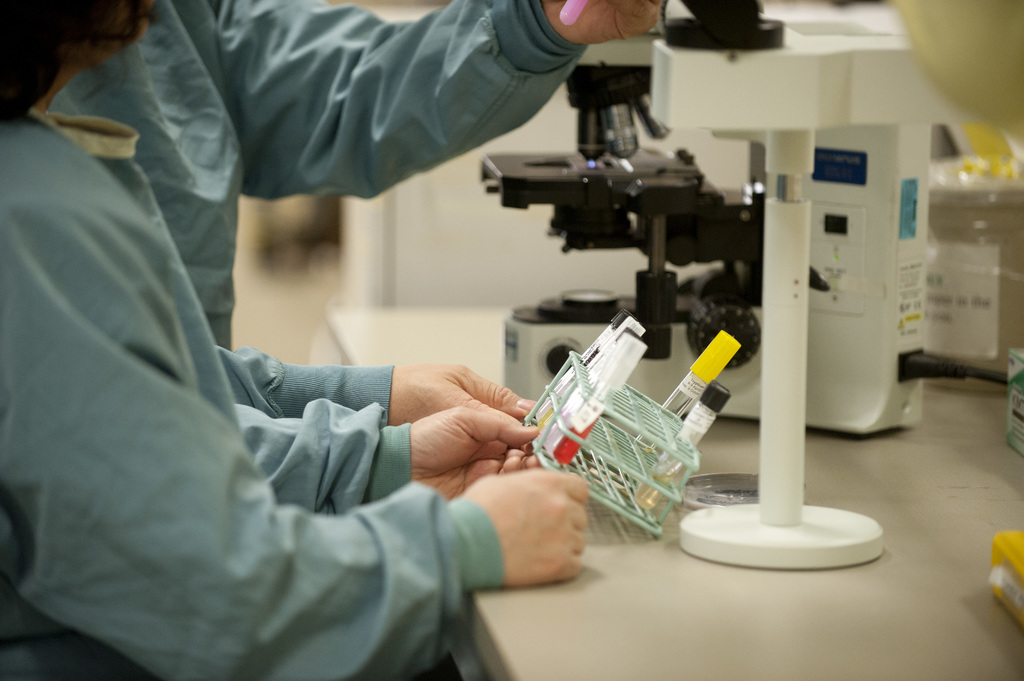Human_hand: (462, 470, 588, 587), (409, 404, 538, 489), (394, 362, 539, 423)
